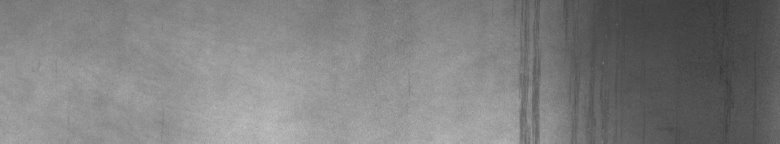ka: (516, 4, 600, 136)
